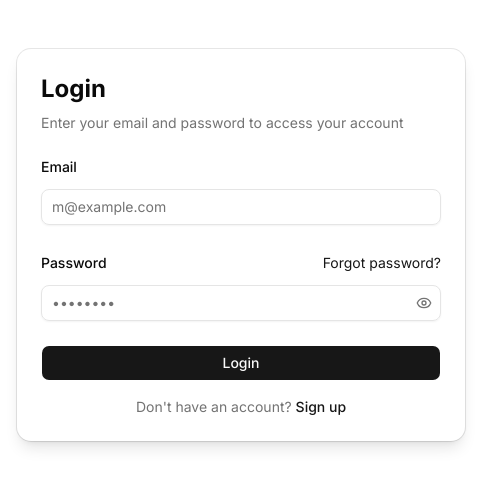
Test: LoginPage › shows validation error for invalid email format
This screenshot has width=483, height=499.
Step 1. Type "invalid-email" into the field labelled "Email" → (241, 207), box [41,189,441,225]
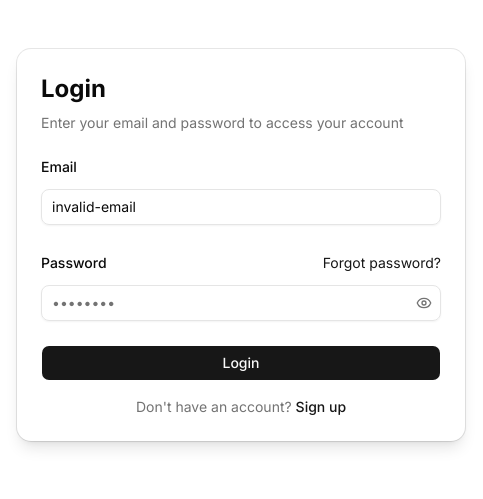
Step 2. Submit the form, box [41,157,441,321]
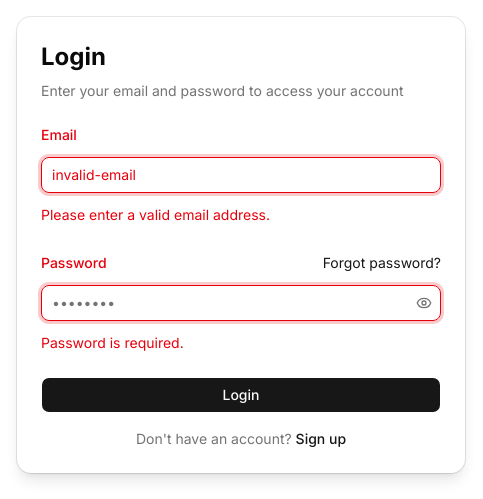
Expected: the text "Please enter a valid email address." is shown, [41,206,270,223]
